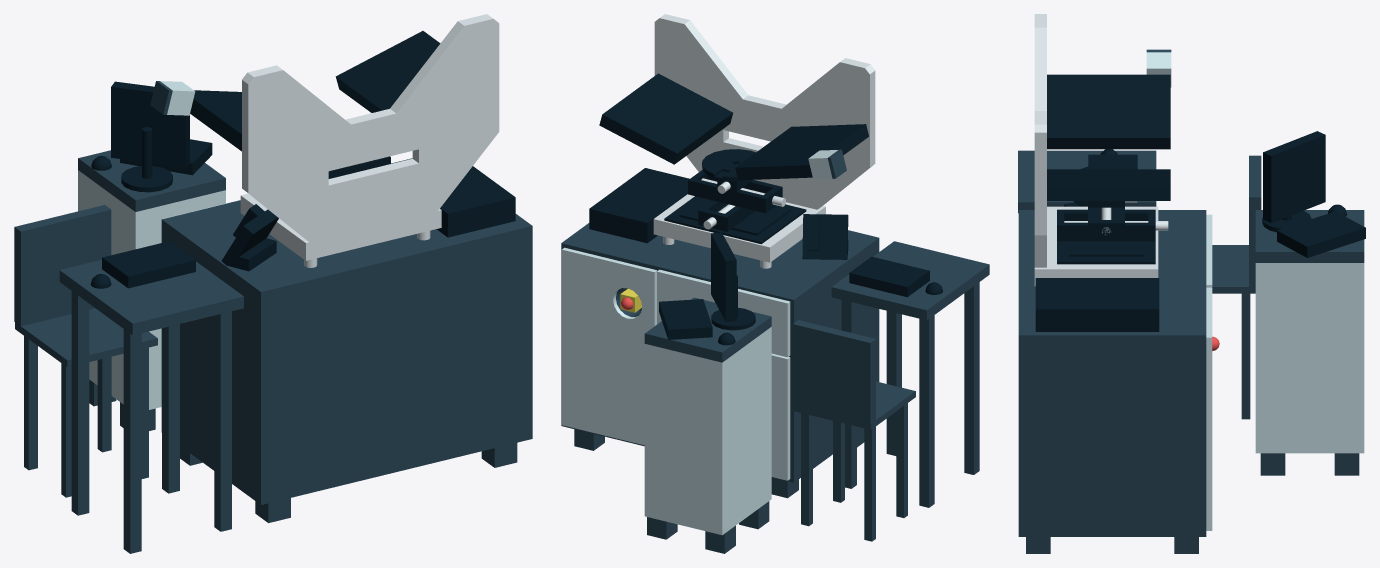
The model's file is machine 1.glb.
The picture shows the model from 3 angles, left to right: view 1: azimuth 30°, elevation 25°; view 2: azimuth 150°, elevation 25°; view 3: azimuth 270°, elevation 25°; orthographic projection. The views are drawn at different scales.
Parts seen in each view (by area): view 1: machine 1; view 2: machine 1; view 3: machine 1.
Part boxes in pixels (x1,y1,x2,y2): machine 1: (14, 14, 532, 553); machine 1: (561, 14, 989, 553); machine 1: (1018, 14, 1365, 553).
Size of the model in its own units: 1.77 by 1.88 by 1.41.
